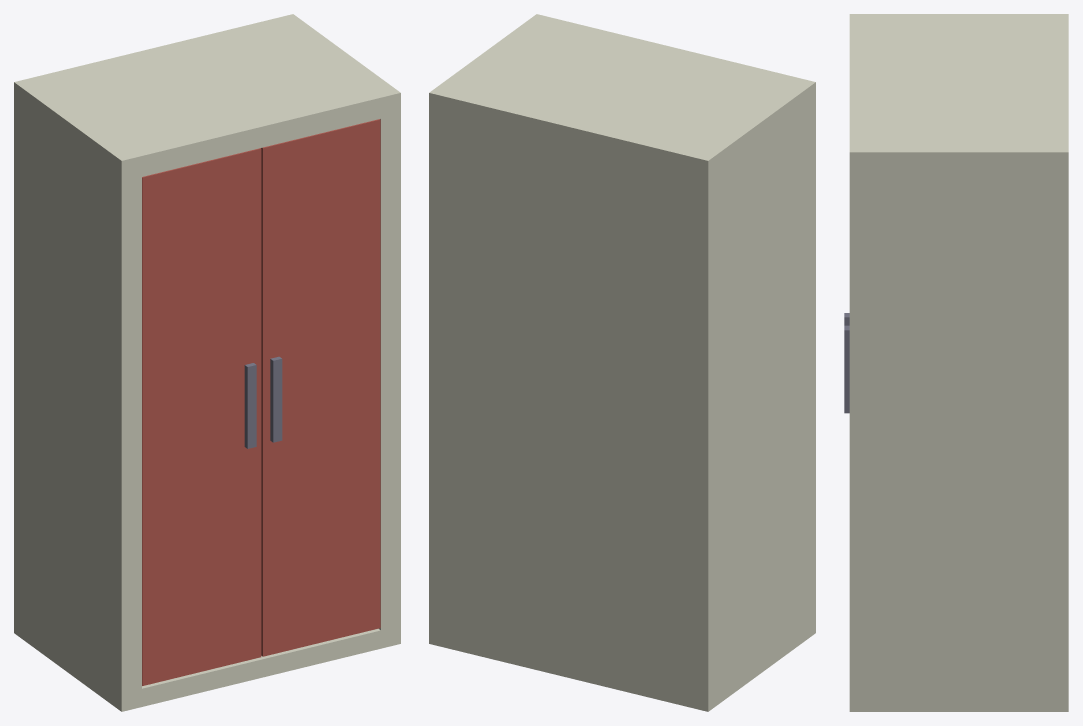
Rendered from Wardrobe.fbx.
The picture shows the model from 3 angles, left to right: view 1: azimuth 30°, elevation 25°; view 2: azimuth 150°, elevation 25°; view 3: azimuth 270°, elevation 25°; orthographic projection.
Visible parts, largest first — view 1: Cube, Cube.002, Cube.001; view 2: Cube; view 3: Cube, Cube.002.
Boxes of the visible parts, x1,y1,x2,y2 form: Cube: [14, 14, 400, 711]; Cube.002: [261, 119, 380, 656]; Cube.001: [142, 148, 261, 685]; Cube: [429, 14, 815, 711]; Cube: [849, 14, 1068, 711]; Cube.002: [844, 325, 849, 413].
Bounding box in the file's own units: 200 × 377 × 137.
